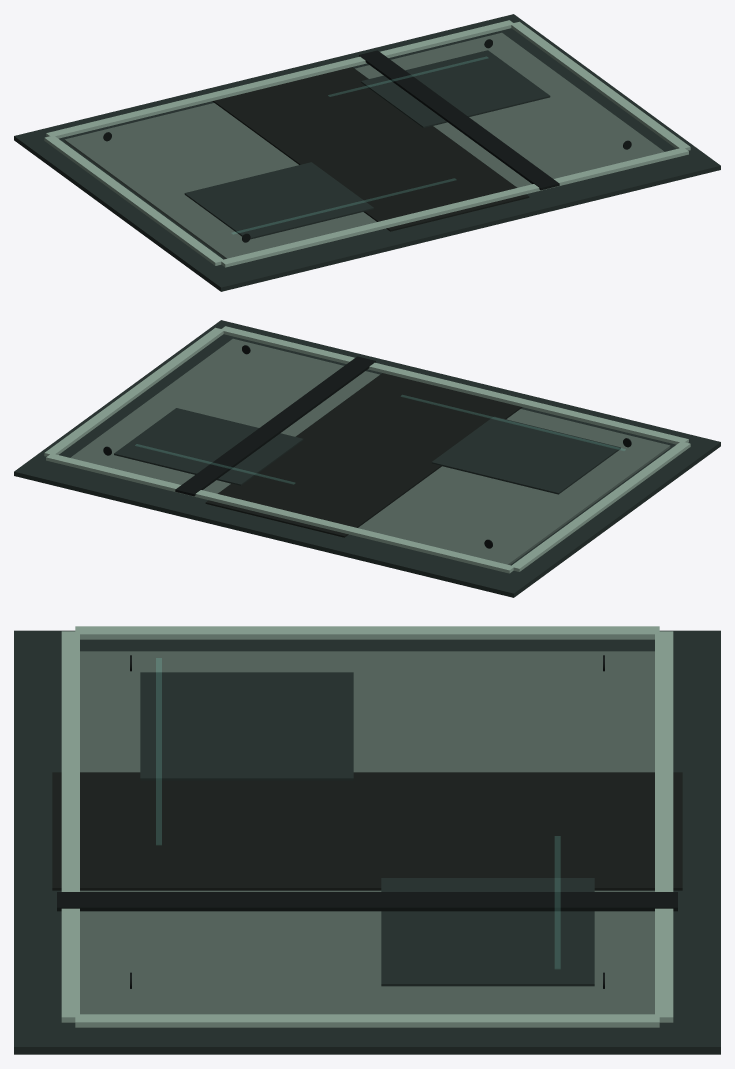
The model's file is hp_room_floor_tile_residential.glb.
3 views of the same model, one above another, from view 1: azimuth 30°, elevation 25°; view 2: azimuth 150°, elevation 25°; view 3: azimuth 270°, elevation 25° (orthographic). The views are drawn at different scales.
Parts seen in each view (by area): view 1: residential_floor_large_grey_plate, residential_floor_slab_base, residential_floor_center_worn_path, residential_floor_inner_panel_a, residential_floor_inner_panel_b, residential_floor_front_raised_border, residential_floor_back_raised_border, residential_floor_dark_cable_trench, residential_floor_left_raised_border, residential_floor_right_raised_border; view 2: residential_floor_large_grey_plate, residential_floor_slab_base, residential_floor_center_worn_path, residential_floor_inner_panel_a, residential_floor_inner_panel_b, residential_floor_back_raised_border, residential_floor_front_raised_border, residential_floor_dark_cable_trench, residential_floor_left_raised_border, residential_floor_right_raised_border; view 3: residential_floor_large_grey_plate, residential_floor_center_worn_path, residential_floor_slab_base, residential_floor_inner_panel_a, residential_floor_inner_panel_b, residential_floor_dark_cable_trench, residential_floor_right_raised_border, residential_floor_left_raised_border, residential_floor_front_raised_border, residential_floor_back_raised_border, residential_floor_cyan_line_a.
Boxes of the visible parts, box(x1,y1,x2,y2) form: residential_floor_large_grey_plate: box(64, 32, 664, 258); residential_floor_slab_base: box(14, 14, 720, 291); residential_floor_center_worn_path: box(212, 67, 529, 231); residential_floor_inner_panel_a: box(184, 162, 373, 239); residential_floor_inner_panel_b: box(361, 50, 550, 127); residential_floor_front_raised_border: box(220, 147, 688, 267); residential_floor_back_raised_border: box(46, 20, 514, 138); residential_floor_dark_cable_trench: box(359, 50, 559, 190); residential_floor_left_raised_border: box(44, 135, 222, 265); residential_floor_right_raised_border: box(511, 21, 690, 150); residential_floor_large_grey_plate: box(70, 338, 670, 564); residential_floor_slab_base: box(14, 320, 720, 597); residential_floor_center_worn_path: box(205, 373, 522, 537); residential_floor_inner_panel_a: box(431, 416, 620, 494); residential_floor_inner_panel_b: box(114, 408, 303, 485); residential_floor_back_raised_border: box(46, 453, 514, 573); residential_floor_front_raised_border: box(220, 326, 688, 444); residential_floor_dark_cable_trench: box(175, 356, 375, 496); residential_floor_left_raised_border: box(512, 441, 690, 571); residential_floor_right_raised_border: box(44, 327, 223, 456); residential_floor_large_grey_plate: box(80, 651, 654, 1014); residential_floor_center_worn_path: box(52, 772, 682, 890); residential_floor_slab_base: box(14, 630, 720, 1054); residential_floor_inner_panel_a: box(140, 672, 353, 780); residential_floor_inner_panel_b: box(381, 878, 594, 986); residential_floor_dark_cable_trench: box(57, 892, 677, 911); residential_floor_right_raised_border: box(75, 1014, 659, 1027); residential_floor_left_raised_border: box(75, 626, 659, 639); residential_floor_front_raised_border: box(61, 631, 79, 1022); residential_floor_back_raised_border: box(655, 631, 673, 1022); residential_floor_cyan_line_a: box(156, 658, 161, 844).
Bounding box in the file's own units: 4.25 × 0.1505 × 3.05.
